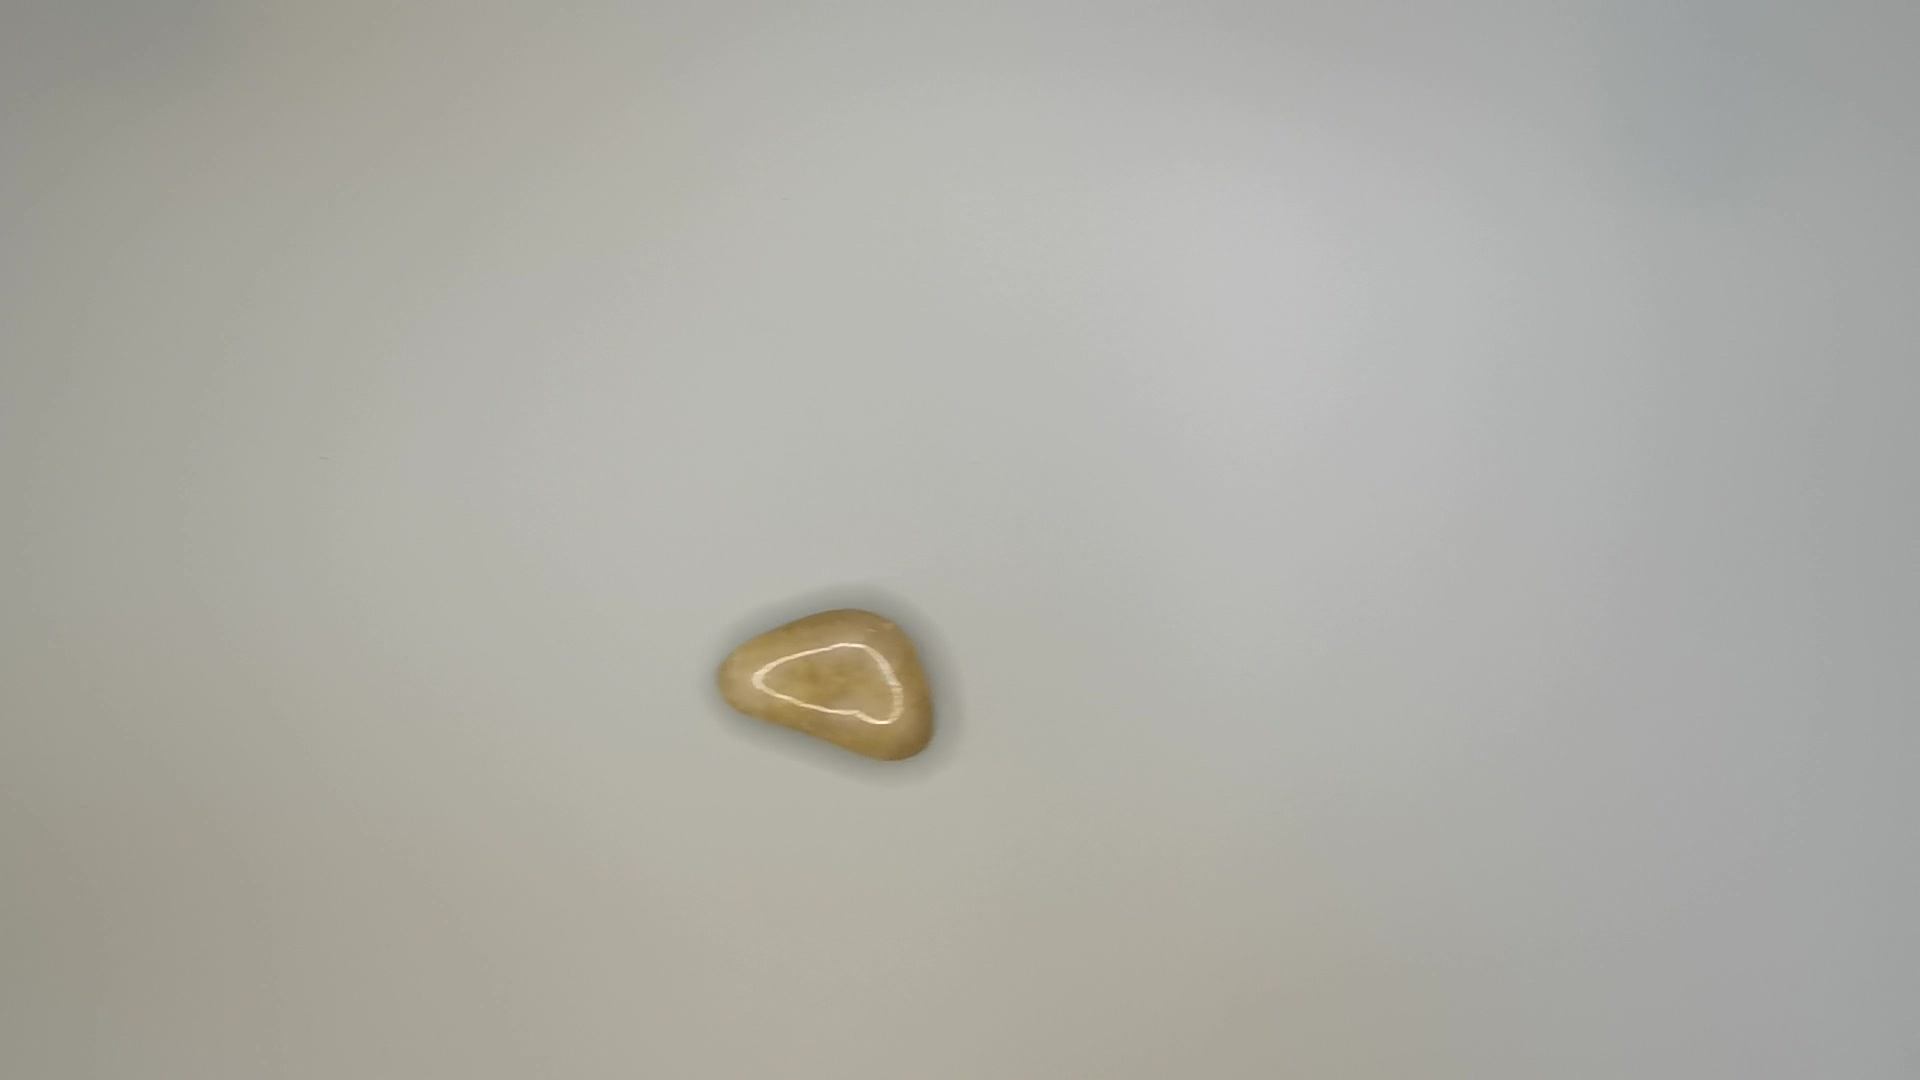ceramic: (705, 603, 949, 775)
